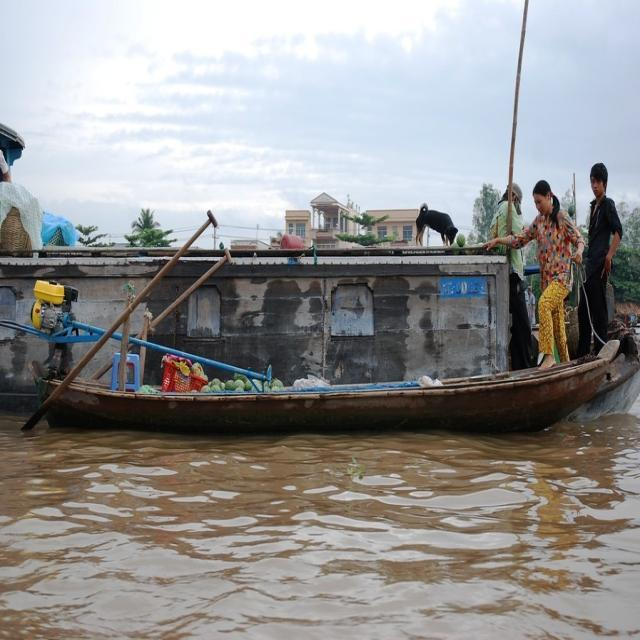boat: (31, 353, 615, 429)
